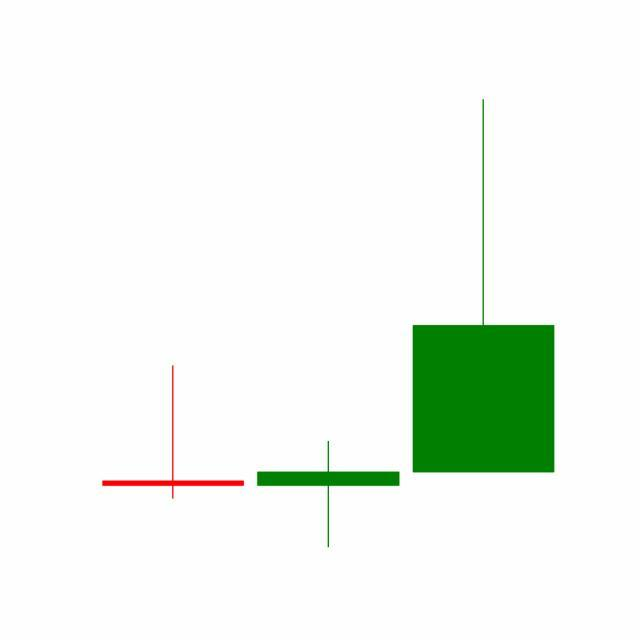Dragonfly Doji: (250, 440, 407, 550)
